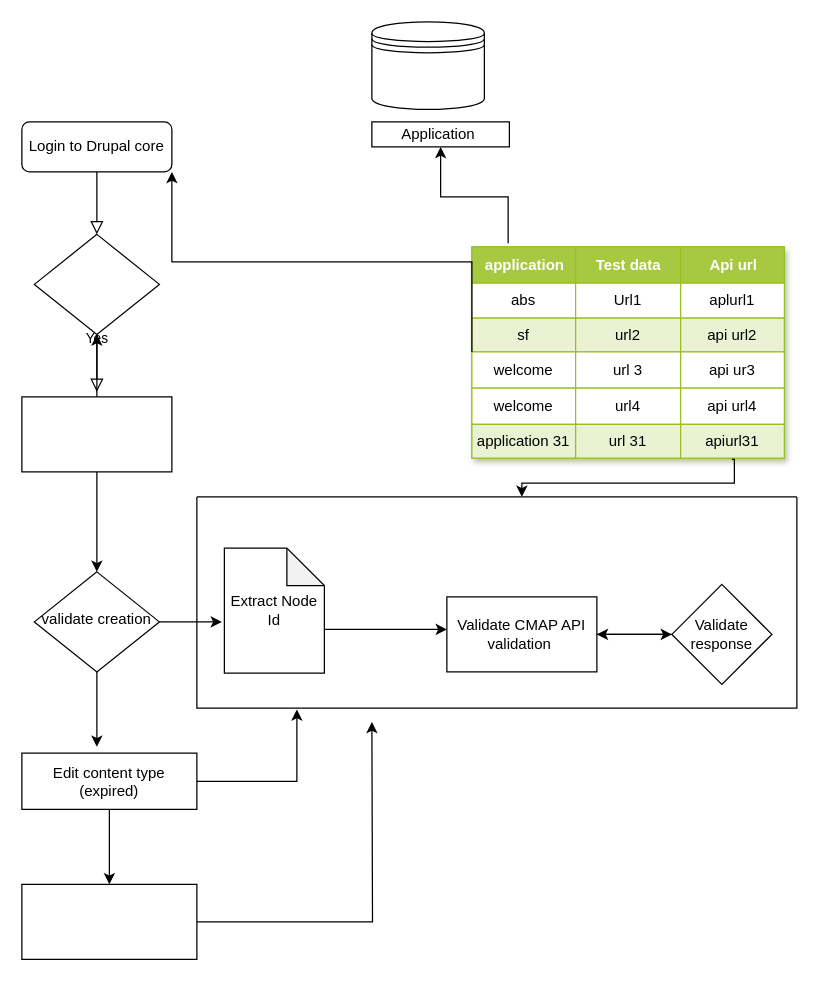
This 819x981 diagram has some shape labels left out. Each missing label, with the centre of its shape:
"Add Translation for Chinese , publish" goes at pixel 109 921.
"Create content Type Draft" goes at pixel 96 434.
"Environment" goes at pixel 427 65.
"validate login" goes at pixel 96 283.
